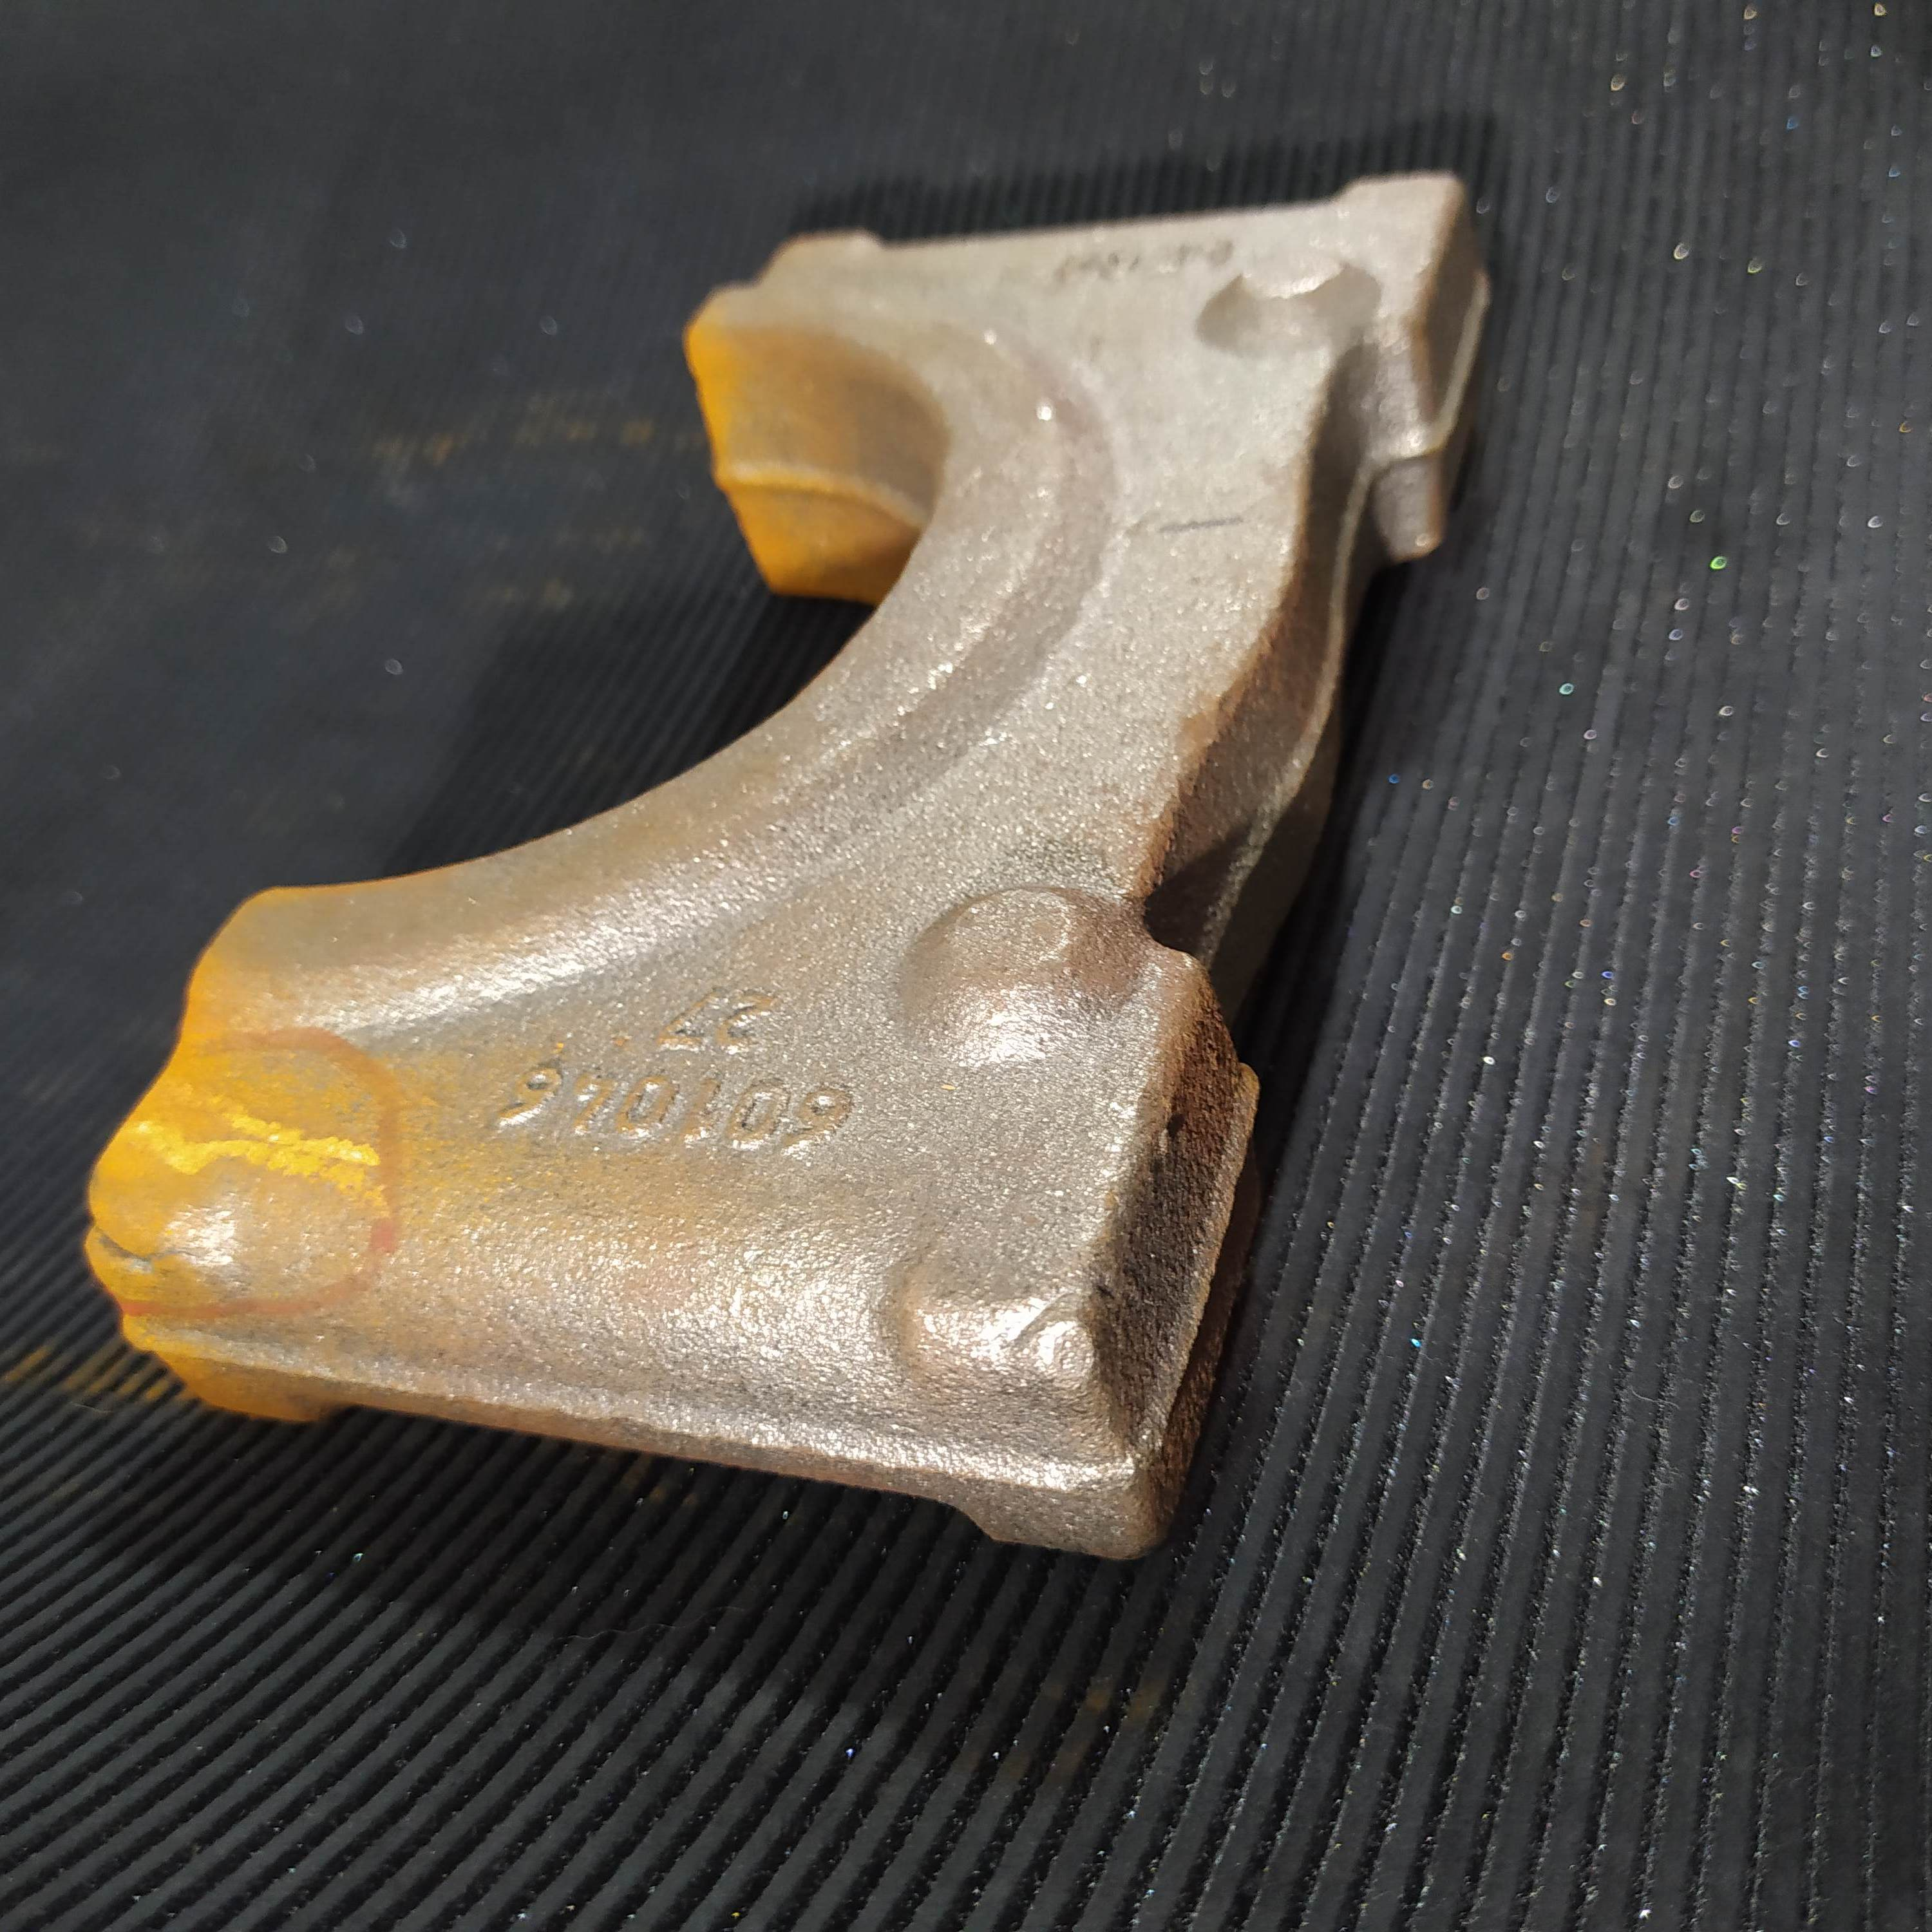rechupe: (80, 1210, 212, 1267), (1008, 1288, 1085, 1362)
